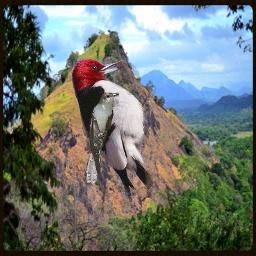Cuckoo: (85, 91, 119, 184)
Woodpecker: (71, 58, 156, 196)
